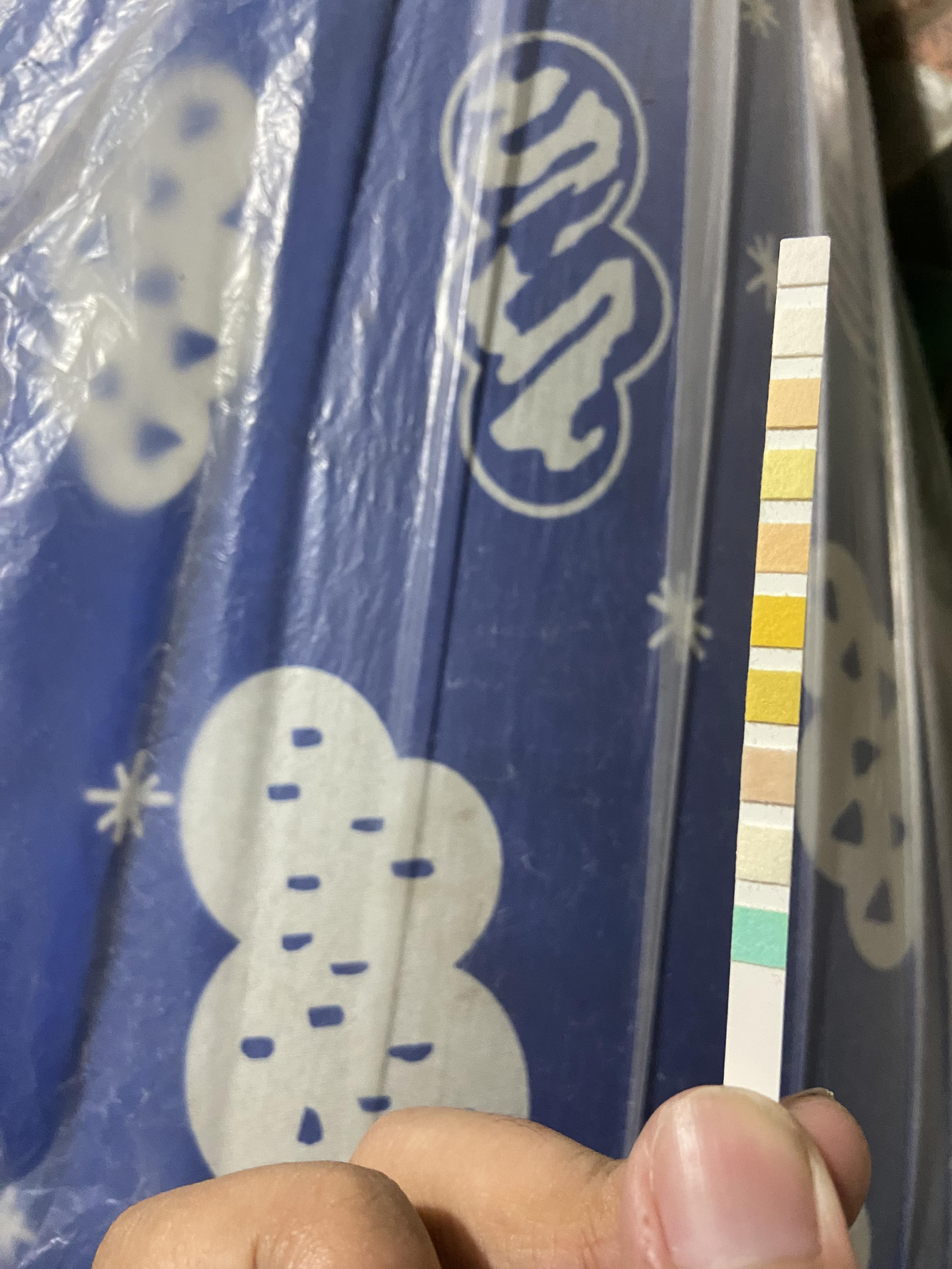Bilirubin: (738, 833, 790, 879)
Blood: (754, 597, 803, 645)
Glucose: (734, 915, 785, 959)
Ketone: (744, 752, 794, 800)
Leukocytes: (781, 242, 827, 281)
Nitrite: (775, 310, 822, 353)
Protein: (765, 451, 812, 496)
SpGravity: (748, 673, 799, 720)
Urobilinogen: (771, 381, 817, 426)
pH: (760, 524, 807, 571)
strip: (723, 236, 830, 1103)
